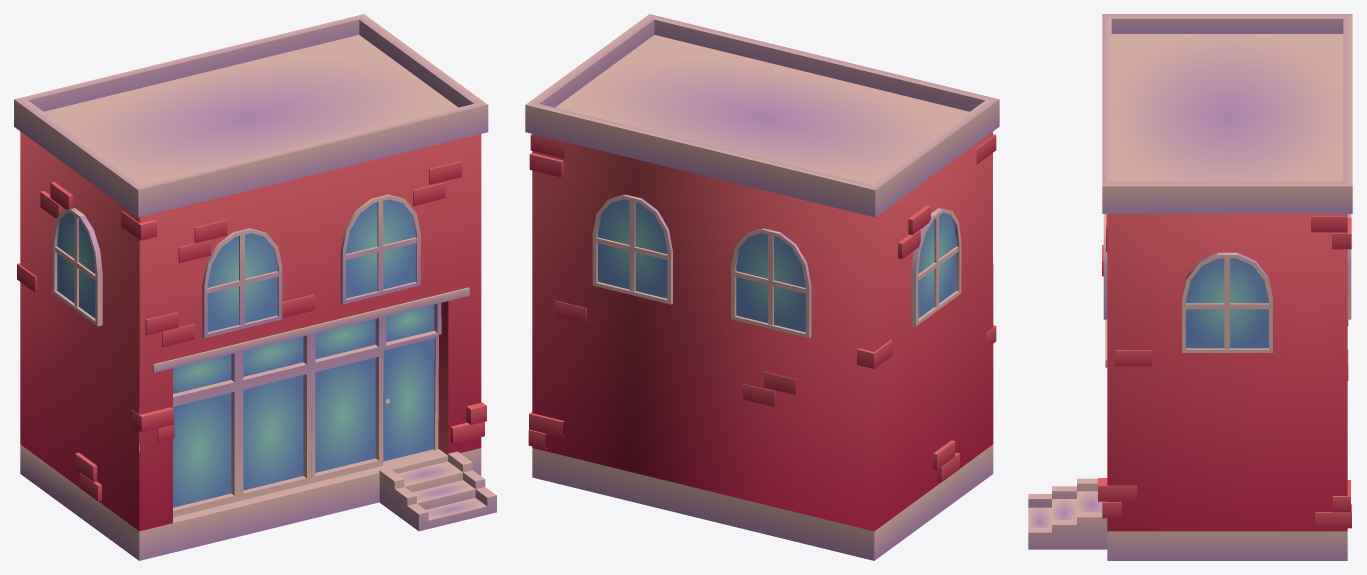
File: SM_2F_Half_05.fbx
The picture shows the model from 3 angles, left to right: view 1: azimuth 30°, elevation 25°; view 2: azimuth 150°, elevation 25°; view 3: azimuth 270°, elevation 25°; orthographic projection.
Visible parts, largest first — view 1: SM_2F_Half_05; view 2: SM_2F_Half_05; view 3: SM_2F_Half_05.
Part boxes in pixels (x1,y1,x2,y2): SM_2F_Half_05: (14, 14, 496, 560); SM_2F_Half_05: (525, 14, 999, 560); SM_2F_Half_05: (1028, 14, 1352, 560).
Size of the model in its own units: 7.91 by 6.26 by 8.03.
